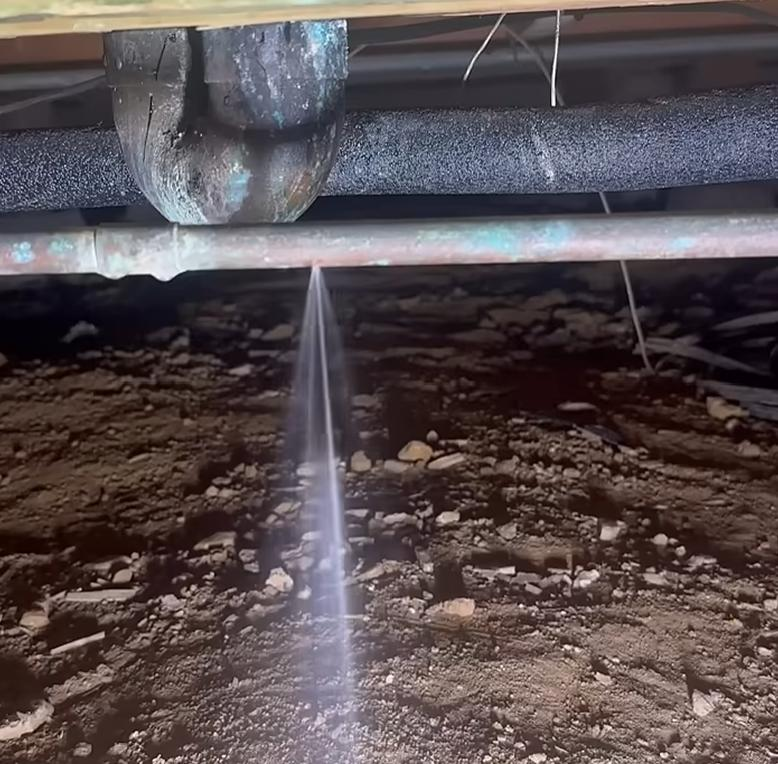pipe burst: (273, 251, 362, 730)
